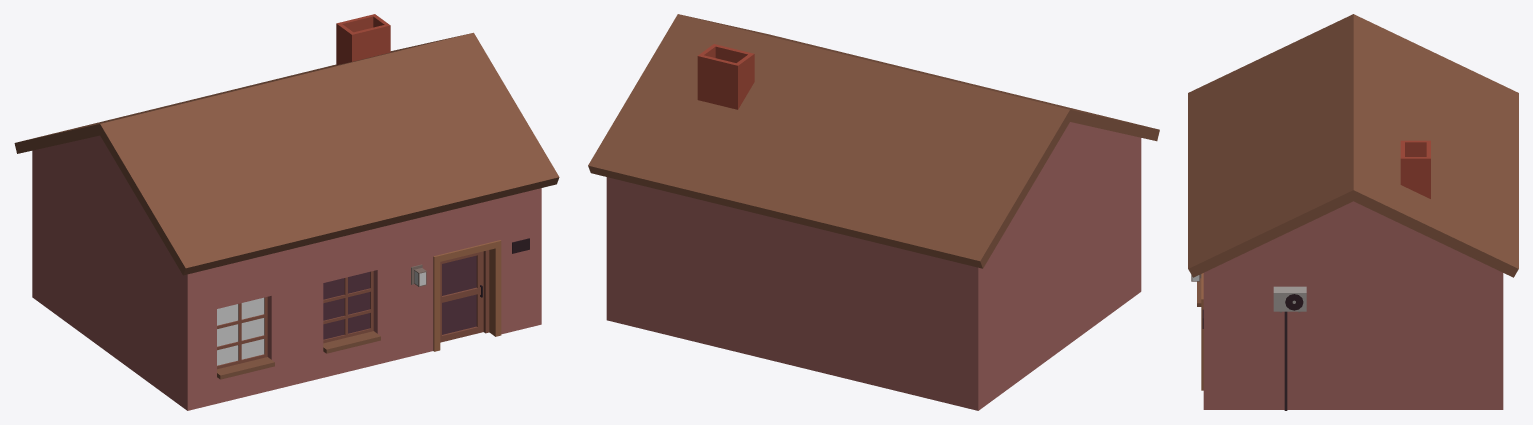
File: Building_35.FBX
3 renders of one model, left to right at view 1: azimuth 30°, elevation 25°; view 2: azimuth 150°, elevation 25°; view 3: azimuth 270°, elevation 25°, orthographic. The views are drawn at different scales.
Visible parts, largest first — view 1: Building_35, Building_35LP; view 2: Building_35; view 3: Building_35.
Boxes of the visible parts, bbox=[...] form: Building_35: bbox=[14, 14, 559, 410]; Building_35LP: bbox=[217, 271, 425, 365]; Building_35: bbox=[588, 14, 1159, 410]; Building_35: bbox=[1188, 14, 1518, 410].
Size of the model in its own units: 12 by 7.18 by 9.43.
